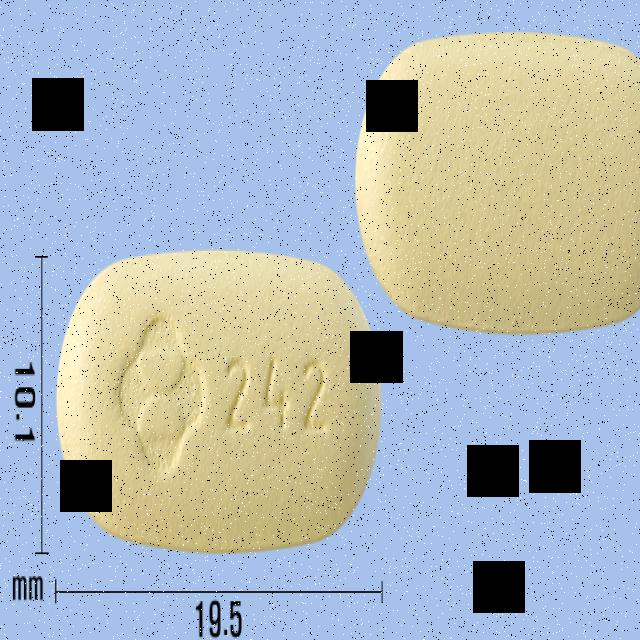Isentress: (56, 248, 384, 554)
